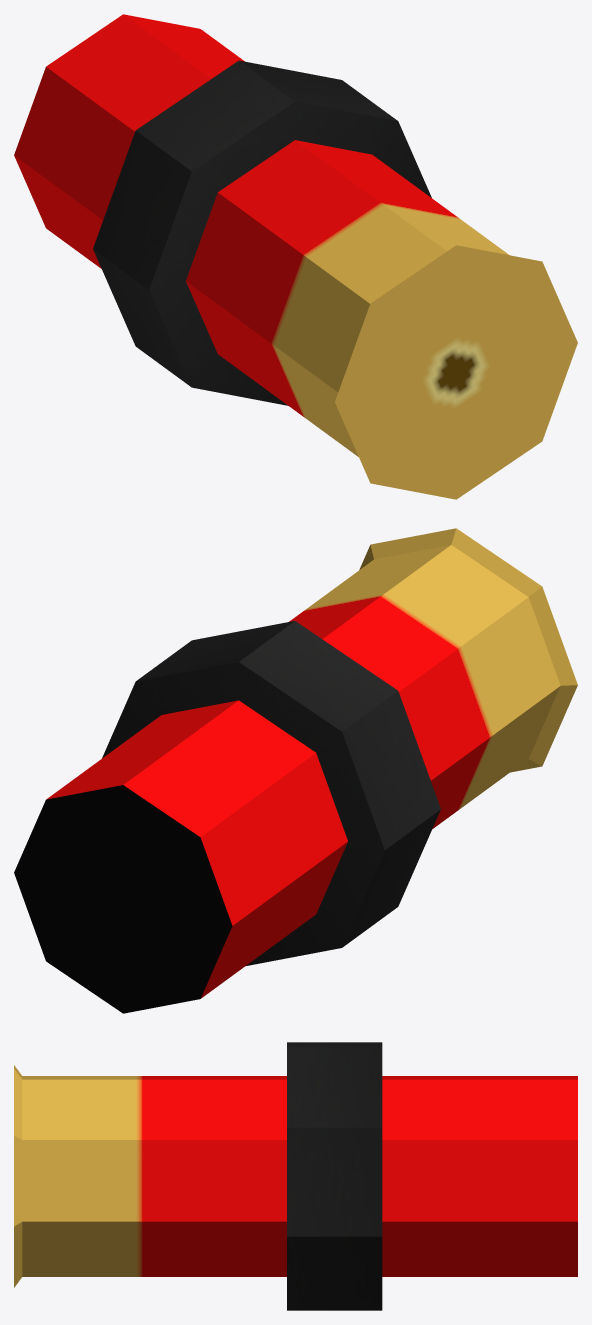
File: casings.obj
The picture shows the model from 3 angles, top to bottom: view 1: azimuth 30°, elevation 25°; view 2: azimuth 150°, elevation 25°; view 3: azimuth 270°, elevation 25°; orthographic projection. The views are drawn at different scales.
Parts seen in each view (by area): view 1: Shotgun_Shell_Cylinder.002, AR2_Cylinder.001; view 2: Shotgun_Shell_Cylinder.002, AR2_Cylinder.001; view 3: Shotgun_Shell_Cylinder.002, AR2_Cylinder.001.
Boxes of the visible parts, left/top/right/bottom form: Shotgun_Shell_Cylinder.002: left=14, top=14, right=577, bottom=499; AR2_Cylinder.001: left=93, top=60, right=431, bottom=405; Shotgun_Shell_Cylinder.002: left=14, top=528, right=577, bottom=1013; AR2_Cylinder.001: left=102, top=621, right=440, bottom=965; Shotgun_Shell_Cylinder.002: left=14, top=1065, right=577, bottom=1287; AR2_Cylinder.001: left=287, top=1042, right=382, bottom=1310.
Bounding box in the file's own units: 1.2 × 1.2 × 2.37.
